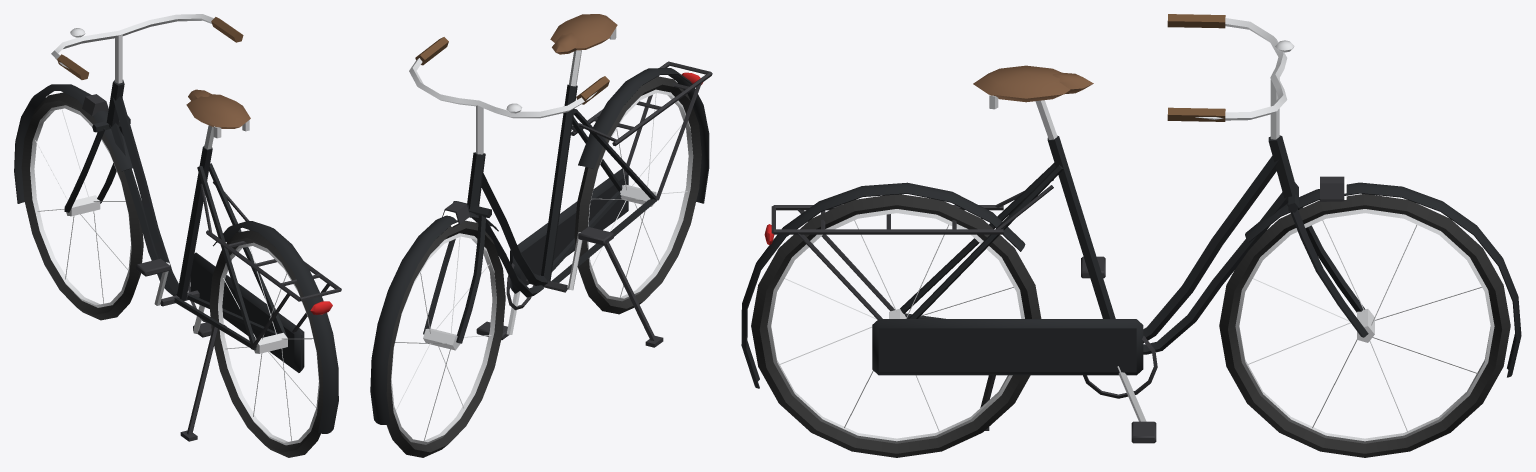
File: bike_oma_low.glb
3 renders of one model, left to right at view 1: azimuth 30°, elevation 25°; view 2: azimuth 150°, elevation 25°; view 3: azimuth 270°, elevation 25°, orthographic. The views are drawn at different scales.
Parts seen in each view (by area): view 1: frame, wheel_front, wheel_rear, crank, stand; view 2: frame, wheel_rear, wheel_front, crank, stand; view 3: frame, wheel_front, wheel_rear, crank.
Part boxes in pixels (left/top/right/bottom): frame: left=14, top=14, right=341, bottom=433; wheel_front: left=21, top=92, right=143, bottom=320; wheel_rear: left=209, top=230, right=322, bottom=457; crank: left=136, top=258, right=226, bottom=337; stand: left=180, top=326, right=217, bottom=441; frame: left=370, top=14, right=712, bottom=424; wheel_rear: left=574, top=76, right=701, bottom=314; wheel_front: left=386, top=220, right=505, bottom=457; crank: left=476, top=227, right=613, bottom=339; stand: left=604, top=242, right=663, bottom=347; frame: left=741, top=14, right=1521, bottom=388; wheel_front: left=1219, top=194, right=1510, bottom=457; wheel_rear: left=751, top=194, right=1041, bottom=457; crank: left=1081, top=256, right=1157, bottom=443.
Bounding box in the file's own units: 0.5766 × 1.07 × 1.9.
